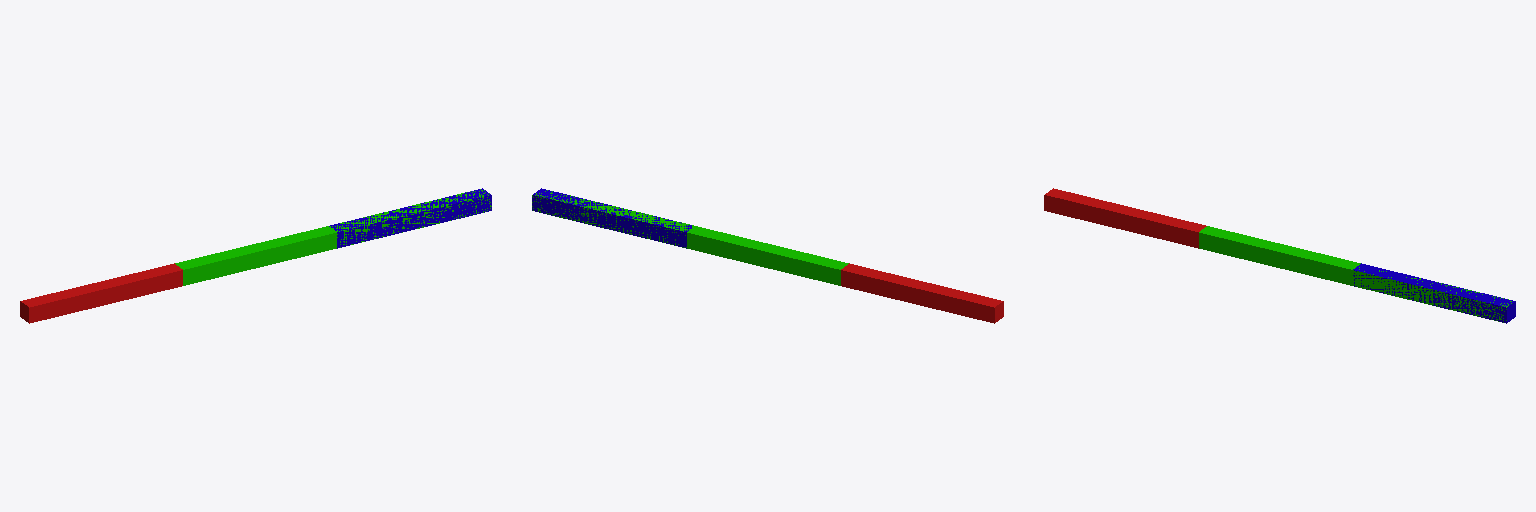
The robot description file, URDF, robot "variable_four_bar_branch":
<?xml version="1.0" ?>
<!-- =================================================================================== -->
<!-- |    This document was autogenerated by xacro from four_bar_branch.xacro          | -->
<!-- |    EDITING THIS FILE BY HAND IS NOT RECOMMENDED                                 | -->
<!-- =================================================================================== -->
<robot name="variable_four_bar_branch">
  <link name="base"/>
  <link name="link_1">
    <inertial>
      <mass value="3.3"/>
      <origin xyz="0.0 0.0 0.0"/>
      <inertia ixx="0.011253" ixy="0" ixz="0" iyy="0.036203" iyz="0" izz="0.042673"/>
    </inertial>
    <visual>
      <origin rpy="0 0 0" xyz="0.25 0 0"/>
      <geometry>
        <box size="0.5 0.05 0.05"/>
      </geometry>
      <material name="Blue">
        <color rgba="0.1 0 0.8 1.0"/>
      </material>
    </visual>
  </link>
  <link name="link_2">
    <inertial>
      <mass value="3.3"/>
      <origin xyz="0.0 0.0 0.0"/>
      <inertia ixx="0.011253" ixy="0" ixz="0" iyy="0.036203" iyz="0" izz="0.042673"/>
    </inertial>
    <visual>
      <origin rpy="0 0 0" xyz="0.25 0 0"/>
      <geometry>
        <box size="0.5 0.05 0.05"/>
      </geometry>
      <material name="Red">
        <color rgba="0.8 0.1 0.1 1.0"/>
      </material>
    </visual>
  </link>
  <link name="link_3">
    <inertial>
      <mass value="3.3"/>
      <origin xyz="0.0 0.0 0.0"/>
      <inertia ixx="0.011253" ixy="0" ixz="0" iyy="0.036203" iyz="0" izz="0.042673"/>
    </inertial>
    <visual>
      <origin rpy="0 0 0" xyz="0.5 0 0"/>
      <geometry>
        <box size="1.0 0.05 0.05"/>
      </geometry>
      <material name="Green2">
        <color rgba="0.1 0.8 0 1.0"/>
      </material>
    </visual>
  </link>
  <joint independent="false" name="base_to_link_1" type="revolute">
    <parent link="base"/>
    <child link="link_1"/>
    <origin xyz="1.0 0.0 0.0"/>
    <axis xyz="0 0 1"/>
    <limit effort="30" lower="-10" upper="10" velocity="1.0"/>
  </joint>
  <joint independent="true" name="base_to_link_2" type="revolute">
    <parent link="base"/>
    <child link="link_2"/>
    <origin xyz="0.0 0.0 0.0"/>
    <axis xyz="0 0 1"/>
    <limit effort="30" lower="-10" upper="10" velocity="1.0"/>
  </joint>
  <joint independent="false" name="link_2_to_link_3" type="revolute">
    <parent link="link_2"/>
    <child link="link_3"/>
    <origin xyz="0.5 0.0 0.0"/>
    <axis xyz="0 0 1"/>
    <limit effort="30" lower="-10" upper="10" velocity="1.0"/>
  </joint>
  <constraint name="constraint_1" type="position">
    <predecessor link="link_1">
      <origin xyz="0.5 0.0 0.0"/>
    </predecessor>
    <successor link="link_3">
      <origin xyz="1.0 0.0 0.0"/>
    </successor>
  </constraint>
</robot>

--- Render facts (derived) ---
The picture shows the robot from 3 angles, left to right: view 1: azimuth 30°, elevation 25°; view 2: azimuth 150°, elevation 25°; view 3: azimuth 330°, elevation 25°; orthographic projection.
Model variable_four_bar_branch with 4 links and 3 joints (3 revolute), rooted at base, posed all joints at 0.
Visible links, largest first — view 1: link_3, link_2, link_1; view 2: link_3, link_2, link_1; view 3: link_3, link_2, link_1.
Link boxes in pixels (box(x1,y1,x2,y2)): link_3: box(175, 189, 491, 285); link_2: box(20, 263, 182, 323); link_1: box(329, 188, 491, 248); link_3: box(532, 190, 848, 285); link_2: box(841, 263, 1003, 323); link_1: box(532, 188, 691, 248); link_3: box(1199, 226, 1511, 322); link_2: box(1044, 188, 1206, 248); link_1: box(1353, 263, 1515, 323).
Size in the robot's own frame: 1.5 by 0.05 by 0.05 metres.
Geometry: primitives only (box / cylinder / sphere), no mesh files.